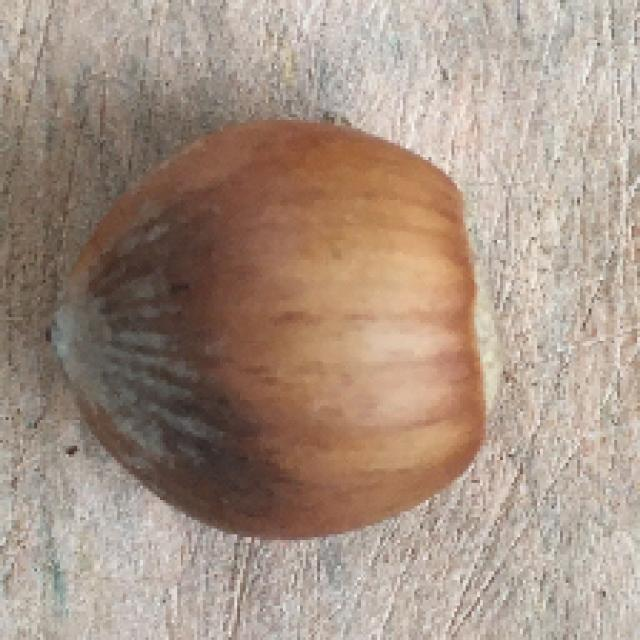damagedHazelnut: (47, 113, 503, 541)
